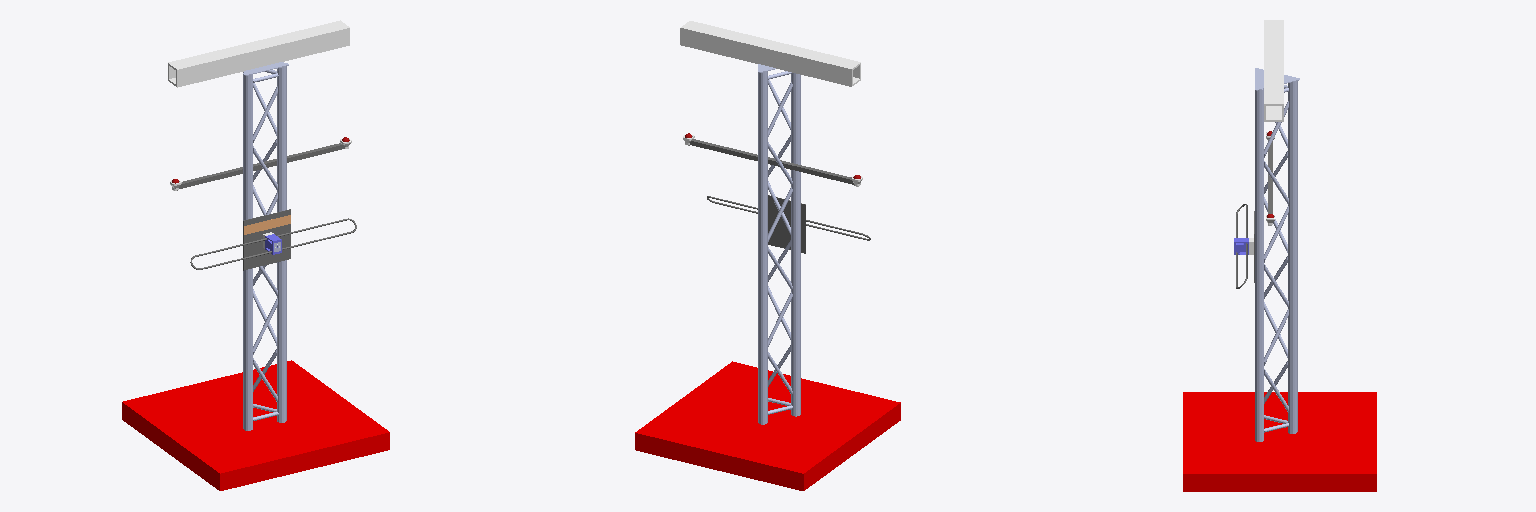
--- What the picture shows (computed from the rendered views, not written in the file) ---
3 views of the same robot in one strip: view 1: azimuth 30°, elevation 25°; view 2: azimuth 150°, elevation 25°; view 3: azimuth 270°, elevation 25° (orthographic).
Model hunter_killer_mast with 19 links and 18 joints (5 revolute, 1 prismatic, 12 fixed), rooted at box_base, posed all joints at 0.
Visible links, largest first — view 1: box_base, mast, pankha, blue_board, navigation_pole, antena; view 2: box_base, mast, pankha, blue_board, navigation_pole; view 3: box_base, mast, pankha.
Link boxes in pixels (box(x1,y1,x2,y2)): box_base: box(122, 360, 389, 490); mast: box(243, 62, 288, 430); pankha: box(168, 20, 349, 87); blue_board: box(243, 209, 290, 270); navigation_pole: box(179, 143, 344, 188); antena: box(190, 218, 356, 269); box_base: box(635, 361, 900, 490); mast: box(758, 64, 800, 424); pankha: box(680, 21, 860, 86); blue_board: box(768, 195, 805, 253); navigation_pole: box(690, 139, 853, 184); box_base: box(1183, 392, 1376, 491); mast: box(1255, 68, 1299, 441); pankha: box(1264, 20, 1283, 121).
Size in the robot's own frame: 1.05 by 1 by 2.2 metres.
16 mesh visuals loaded from 13 distinct referenced files (13 binary STL).

URDF robot description (hunter_killer_mast):
<?xml version="1.0" encoding="utf-8"?>
<!-- This URDF was automatically created by SolidWorks to URDF Exporter! Originally created by Stephen Brawner ([email redacted]) 
     Commit Version: 1.5.1-0-g916b5db  Build Version: 1.5.7152.31018
     For more information, please see http://wiki.ros.org/sw_urdf_exporter -->
<robot name="hunter_killer_mast">

  <link name="box_base">
    <inertial>
      <origin xyz="0.0 0.0 0.0" rpy="0.0 0.0 0.0"/>
      <mass value="20.0"/>
      <inertia ixx="4.0" ixy="0.0" ixz="0.0" iyy="4.0" iyz="0.0" izz="4.0"/>
    </inertial>
    <visual name="">
      <origin xyz="0.0 0.0 0.0" rpy="0.0 0.0 0.0"/>
      <geometry>
        <box size="1 1 0.1"/>
      </geometry>
      <material name="">
        <color rgba="1.0 0.0 0.0 1.0"/>
        <texture filename=""/>
      </material>
    </visual>
    <collision>
      <origin xyz="0.0 0.0 0.0" rpy="0.0 0.0 0.0"/>
      <geometry>
        <box size="1 1 0.1"/>
      </geometry>
    </collision>
  </link>

  <joint name="roll_joint" type="revolute">
    <origin xyz="0.0 0.0 0.05" rpy="0.0 0.0 0.0"/>
    <parent link="box_base"/>
    <child link="base"/>
    <axis
      xyz="1 0 0" />
    <limit
      lower="-0.2"
      upper="0.2"
      effort="1000"
      velocity="0.5" />
    <dynamics damping="10" friction="1"/>
  </joint>

  <link name="base">
    <inertial>
      <origin
        xyz="-0.021807112902672 0.2981157062495953 0.306152835990506"
        rpy="0 0 0" />
      <mass
        value="26.67349504" />
      <inertia
        ixx="2.29537872450219"
        ixy="-9.71572452120503E-19"
        ixz="-2.66210851881018E-17"
        iyy="4.58897921600171"
        iyz="0"
        izz="2.29537872450219" />
    </inertial>
    <collision>
      <origin
        xyz="-0.25 0.3 0"
        rpy="0 0 0" />
      <geometry>
        <mesh
          filename="package://hunter_killer_mast/meshes/base.STL" />
      </geometry>
    </collision>
  </link>

  <link name="mast">
    <inertial>
      <origin
        xyz="0 0 0.6452336017551502"
        rpy="3.1416 -1.0464 -1.0472" />
      <mass
        value="3.55215387982123" />
      <inertia
        ixx="0.182505964653922"
        ixy="5.27421373359982E-06"
        ixz="0.297057435206095"
        iyy="0.696082725150094"
        iyz="7.26935770486992E-06"
        izz="0.524274527718264" />
    </inertial>
    <visual>
      <origin
        xyz="0 0.05 0.714"
        rpy="3.1416 -1.0464 -1.0472" />
      <geometry>
        <mesh
          filename="package://hunter_killer_mast/meshes/mast.STL" />
      </geometry>
      <material
        name="">
        <color
          rgba="0.792156862745098 0.819607843137255 0.933333333333333 1" />
      </material>
    </visual>
    <collision>
      <origin
        xyz="0 0.05 0.714"
        rpy="3.1416 -1.0464 -1.0472" />
      <geometry>
        <mesh
          filename="package://hunter_killer_mast/meshes/mast.STL" />
      </geometry>
    </collision>
  </link>

  <!-- temporary values  rpy="3.1416 -1.0464 -1.0472" 
                        xyz="0.23929 -0.12715 0.7141"-->

  <joint
    name="pitch_joint"
    type="revolute">
    <origin
      xyz="0 0 0"
      rpy="0 0 0" />
    <parent
      link="base" />
    <child
      link="mast" />
    <axis
      xyz="0 1 0" />
    <limit
      lower="-0.2"
      upper="0.2"
      effort="1000"
      velocity="0.5" />
    <dynamics damping="10" friction="1"/>
  </joint>

  <link
    name="blue_board">
    <inertial>
      <origin
        xyz="-5.55111512312578E-17 0 0.00126999999999999"
        rpy="0 0 0" />
      <mass
        value="0.198283474399999" />
      <inertia
        ixx="0.00129001264777298"
        ixy="1.95088712527377E-19"
        ixz="-7.07133320416532E-36"
        iyy="0.00129001264777298"
        iyz="1.36369182639755E-21"
        izz="0.00257981208793538" />
    </inertial>
    <visual>
      <origin
        xyz="0 0 0"
        rpy="0 0 0" />
      <geometry>
        <mesh
          filename="package://hunter_killer_mast/meshes/blue_board.STL" />
      </geometry>
      <material
        name="">
        <color
          rgba="0.501960784313725 0.501960784313725 0.501960784313725 1" />
      </material>
    </visual>
    <collision>
      <origin
        xyz="0 0 0"
        rpy="0 0 0" />
      <geometry>
        <mesh
          filename="package://hunter_killer_mast/meshes/blue_board.STL" />
      </geometry>
    </collision>
  </link>

  <joint
    name="blue_board_joint"
    type="fixed">
    <origin
      xyz="-0.01 -0.13 1.05"
      rpy="1.570796 0 0" />
    <parent
      link="mast" />
    <child
      link="blue_board" />
    <axis
      xyz="0 0 0" />
    <limit
      lower="0"
      upper="0"
      effort="0"
      velocity="0" />
  </joint>

  <link name="name_plate">
    <inertial>
      <origin
        xyz="2.77555756156289E-17 0.000126999999999988 0"
        rpy="0 0 0" />
      <mass
        value="0.00360515407999968" />
      <inertia
        ixx="7.75319784594255E-07"
        ixy="4.48415508583941E-40"
        ixz="-1.44850079896059E-22"
        iyy="2.42281375651312E-05"
        iyz="7.94251067970232E-26"
        izz="2.3452856545557E-05" />
    </inertial>
    <visual>
      <origin
        xyz="0 0 0"
        rpy="0 0 0" />
      <geometry>
        <mesh
          filename="package://hunter_killer_mast/meshes/name_plate.STL" />
      </geometry>
      <material
        name="">
        <color
          rgba="0.988235294117647 0.737254901960784 0.517647058823529 1" />
      </material>
    </visual>
    <collision>
      <origin
        xyz="0 0 0"
        rpy="0 0 0" />
      <geometry>
        <mesh
          filename="package://hunter_killer_mast/meshes/name_plate.STL" />
      </geometry>
    </collision>
  </link>

  <joint
    name="name_plate_joint"
    type="fixed">
    <origin
      xyz="0 0.08382 0.002794"
      rpy="-1.5708 0 0" />
    <parent
      link="blue_board" />
    <child
      link="name_plate" />
    <axis
      xyz="0 0 0" />
  </joint>

  <link name="buax">
    <inertial>
      <origin xyz="0.0 0.0 0.0" rpy="0.0 0.0 0.0"/>
      <mass value="2.0"/>
      <inertia ixx="0.2" ixy="0.0" ixz="0.0" iyy="0.2" iyz="0.0" izz="0.2"/>
    </inertial>
  </link>

  <joint name="joint_name" type="fixed">
    <origin xyz="0 0.03 0.03" rpy="0.0 -1.570796 0.0"/>
    <parent link="rod_supporter"/>
    <child link="buax"/>
    <axis xyz="0.0 0.0 0.0"/>
    <limit lower="0.0" upper="0.0" effort="0.0" velocity="0.0"/>
  </joint>

  <gazebo reference="buax">        
   <sensor type="ray" name="proxy">
      <pose>0 0 0 0 -1.570796 0</pose>
      <update_rate>50</update_rate>
      <ray>
         <scan>
            <horizontal>
               <samples>1</samples>
               <resolution>1.0</resolution>
               <min_angle>-0.01</min_angle>
               <max_angle>0.01</max_angle>
            </horizontal>
            <vertical>
               <samples>1</samples>
               <resolution>1</resolution>
               <min_angle>-0.01</min_angle>
               <max_angle>0.01</max_angle>
            </vertical>
         </scan>
         <range>
            <min>0.01</min>
            <max>3.75</max>
            <resolution>0.02</resolution>
         </range>
      </ray>
      <plugin filename="libgazebo_ros_range.so" name="gazebo_ros_range">
         <gaussianNoise>0.005</gaussianNoise>
         <alwaysOn>true</alwaysOn>
         <updateRate>5</updateRate>
         <topicName>/hunter_killer_mast/proxy_sensor</topicName>
         <frameName>buax</frameName>
         <visualize>true</visualize>
         <radiation>infrared</radiation>
         <fov>0.02</fov>
      </plugin>
    </sensor>            
  </gazebo>

  <link
    name="rod_supporter">
    <inertial>
      <origin
        xyz="-1.11022302462516E-16 0 0.01524"
        rpy="0 0 0" />
      <mass
        value="0.0919734304942546" />
      <inertia
        ixx="5.20957439344639E-05"
        ixy="-2.3398997418822E-21"
        ixz="-8.63635355504983E-22"
        iyy="2.56650484088638E-05"
        iyz="2.00216253752143E-21"
        izz="6.78711959403822E-05" />
    </inertial>
    <visual>
      <origin
        xyz="0 0 0"
        rpy="0 0 0" />
      <geometry>
        <mesh
          filename="package://hunter_killer_mast/meshes/rod_supporter.STL" />
      </geometry>
      <material
        name="">
        <color
          rgba="1 1 1 1" />
      </material>
    </visual>
    <collision>
      <origin
        xyz="0 0 0"
        rpy="0 0 0" />
      <geometry>
        <mesh
          filename="package://hunter_killer_mast/meshes/rod_supporter.STL" />
      </geometry>
    </collision>
  </link>

  <joint
    name="rod_supporter_joint"
    type="fixed">
    <origin
      xyz="0 0 0"
      rpy="0 0 0" />
    <parent
      link="blue_board" />
    <child
      link="rod_supporter" />
    <axis
      xyz="0 0 0" />
    <limit
      lower="0"
      upper="0"
      effort="0"
      velocity="0" />
  </joint>

  <link
    name="guide_rods">
    <inertial>
      <origin
        xyz="-5.55111512312578E-17 2.22044604925031E-16 0.0543107874034415"
        rpy="0 0 0" />
      <mass
        value="0.0201669646243119" />
      <inertia
        ixx="1.80976233284884E-05"
        ixy="-2.33061764938766E-40"
        ixz="9.22606618892689E-24"
        iyy="1.80976233284884E-05"
        iyz="-4.16978745735654E-39"
        izz="1.55795054568415E-07" />
    </inertial>
    <visual>
      <origin
        xyz="0 0 0"
        rpy="0 0 0" />
      <geometry>
        <mesh filename="package://hunter_killer_mast/meshes/guide_rods.STL" />
      </geometry>
      <material
        name="">
        <color rgba="0.792156862745098 0.819607843137255 0.933333333333333 1" />
      </material>
    </visual>
    <collision>
      <origin
        xyz="0.007 -0.007 0.105"
        rpy="0 3.141592 0" />
      <geometry>
        <mesh filename="package://hunter_killer_mast/meshes/rod_2.STL" scale="0.001 0.00102 0.00102"/>
      </geometry>
    </collision>
  </link>

  <joint
    name="guide_rods_joint"
    type="fixed">
    <origin
      xyz="0 0 0"
      rpy="0 0 0" />
    <parent
      link="rod_supporter" />
    <child
      link="guide_rods" />
    <axis
      xyz="0 0 0" />
  </joint>

  <link
    name="communication_module">
    <inertial>
      <origin
        xyz="0.0134660243967413 -0.0126839365107112 0.000639459594719671"
        rpy="0 0 0" />
      <mass
        value="0.210240234105136" />
      <inertia
        ixx="0.00014510351628552"
        ixy="4.05850233971895E-07"
        ixz="7.64351412431873E-06"
        iyy="0.00021092887628388"
        iyz="-2.53045246409258E-06"
        izz="0.000163406381690408" />
    </inertial>
    <visual>
      <origin
        xyz="0 0 0"
        rpy="0 0 0" />
      <geometry>
        <mesh
          filename="package://hunter_killer_mast/meshes/communication_module.STL" />
      </geometry>
      <material
        name="">
        <color
          rgba="0.501960784313725 0.501960784313725 1 1" />
      </material>
    </visual>
    <collision>
      <origin
        xyz="-0.025 -0.497 -0.014 "
        rpy="1.570796 0.05 1.570796" />
      <geometry>
        <mesh
          filename="package://hunter_killer_mast/meshes/module_4.STL" scale="0.001 0.001 0.001" />
      </geometry>
    </collision>
  </link>

  <joint
    name="communication_module_joint"
    type="prismatic">
    <origin
      xyz="0.0127 0 0.05254"
      rpy="3.1416 -1.5708 1.6238" />
    <parent
      link="rod_supporter" />
    <child
      link="communication_module" />
    <axis
      xyz="1 0 0" />
    <limit
      lower="0"
      upper="1"
      effort="10"
      velocity="1" />
  </joint>

  <link
    name="antena">
    <inertial>
      <origin
        xyz="-0.00126999999999988 0.44450000000001 0.00126999999999988"
        rpy="0 0 0" />
      <mass
        value="0.143371875506258" />
      <inertia
        ixx="0.0120842858829543"
        ixy="-5.74063345111717E-19"
        ixz="-8.88927714737223E-05"
        iyy="0.000179416558545412"
        iyz="-2.70074469998607E-19"
        izz="0.0120842858829543" />
    </inertial>
    <visual>
      <origin
        xyz="0 0 0"
        rpy="0 0 0" />
      <geometry>
        <mesh
          filename="package://hunter_killer_mast/meshes/antena.STL" />
      </geometry>
      <material
        name="">
        <color
          rgba="0.501960784313725 0.501960784313725 0.501960784313725 1" />
      </material>
    </visual>
  </link>

  <joint
    name="antena_joint"
    type="fixed">
    <origin
      xyz="0.01604 0.43133 -0.020359"
      rpy="3.0885 0 0" />
    <parent
      link="communication_module" />
    <child
      link="antena" />
    <axis
      xyz="0 0 0" />
  </joint>

  <link
    name="exposed_plate">
    <inertial>
      <origin
        xyz="8.88178419700125E-16 0.000127000000000044 -2.77555756156289E-17"
        rpy="0 0 0" />
      <mass
        value="0.000412780903939401" />
      <inertia
        ixx="5.39960360516428E-08"
        ixy="-5.74455212874483E-23"
        ixz="-4.84975786754717E-23"
        iyy="1.54241350777618E-07"
        iyz="-5.98369508948817E-25"
        izz="1.00249753221442E-07" />
    </inertial>
    <visual>
      <origin
        xyz="0 0 0"
        rpy="0 0 0" />
      <geometry>
        <mesh
          filename="package://hunter_killer_mast/meshes/exposed_plate.STL" />
      </geometry>
      <material
        name="">
        <color
          rgba="0.792156862745098 0.819607843137255 0.933333333333333 1" />
      </material>
    </visual>
  </link>

  <joint
    name="exposed_plate_joint"
    type="fixed">
    <origin
      xyz="0.0516 -0.012682 0.00067339"
      rpy="0 1.5177 -1.5708" />
    <parent
      link="communication_module" />
    <child
      link="exposed_plate" />
    <axis
      xyz="0 0 0" />
  </joint>

  <link
    name="pankha">
    <inertial>
      <origin
        xyz="0 0 -5.55111512312578E-17"
        rpy="0 0 0" />
      <mass
        value="3.73075199999996" />
      <inertia
        ixx="0.0101973887999999"
        ixy="0"
        ixz="8.84708972748172E-18"
        iyy="0.326022955775997"
        iyz="5.60136381722005E-20"
        izz="0.326022955775997" />
    </inertial>
    <visual>
      <origin
        xyz="-0.508 0 0"
        rpy="0 0 0" />
      <geometry>
        <mesh
          filename="package://hunter_killer_mast/meshes/pankha.STL" />
      </geometry>
      <material
        name="">
        <color
          rgba="1 1 1 1" />
      </material>
    </visual>
    <collision>
      <origin
        xyz="-0.508 0 0"
        rpy="0 0 0" />
      <geometry>
        <mesh
          filename="package://hunter_killer_mast/meshes/pankha.STL" />
      </geometry>
    </collision>
  </link>

  <joint
    name="pankha_joint"
    type="revolute">
    <origin
      xyz="0 -0.03 2.05"
      rpy="0 0 0" />
    <parent
      link="mast" />
    <child
      link="pankha" />
    <axis
      xyz="0 0 1" />
    <limit
      lower="-99999999999"
      upper="99999999999"
      effort="1"
      velocity="1" />
  </joint>

  <link name="navigation_pole">
    <inertial>
      <origin
        xyz="0 0 0"
        rpy="0 0 0" />
      <mass
        value="0.1901952" />
      <inertia
        ixx="0.016378328708352"
        ixy="-6.97430332990107E-21"
        ixz="-6.07340949473425E-20"
        iyy="0.016378328708352"
        iyz="3.36950873090182E-19"
        izz="3.49680215039997E-05" />
    </inertial>
    <visual>
      <origin
        xyz="0 0 -0.508"
        rpy="0 0 0" />
      <geometry>
        <mesh
          filename="package://hunter_killer_mast/meshes/navigation_pole.STL" />
      </geometry>
      <material
        name="">
        <color
          rgba="0.501960784313725 0.501960784313725 0.501960784313725 1" />
      </material>
    </visual>
    <collision>
      <origin
        xyz="0 0 -0.508"
        rpy="0 0 0" />
      <geometry>
        <mesh
          filename="package://hunter_killer_mast/meshes/navigation_pole.STL" />
      </geometry>
    </collision>
  </link>

  <joint
    name="navigation_pole_joint"
    type="fixed">
    <origin
      xyz="0 -0.05 1.43"
      rpy="0 1.570796 0" />
    <parent
      link="mast" />
    <child
      link="navigation_pole" />
    <axis
      xyz="0 0 0" />
  </joint>

  #LED 

  <joint name="ledport_joint" type="fixed">
    <origin xyz="-0.05 0.004 0.48" rpy="0.0 -1.570796 0.0"/>
    <parent link="navigation_pole"/>
    <child link="ledport"/>
    <axis xyz="0.0 0.0 0.0"/>
  </joint>

  <joint name="ledstarboard_joint" type="fixed">
    <origin xyz="-0.05 0.004 -0.52" rpy="0.0 -1.570796 0.0"/>
    <parent link="navigation_pole"/>
    <child link="ledstarboard"/>
    <axis xyz="0.0 0.0 0.0"/>
  </joint>

  <link name="ledport">
    <inertial>
      <origin
        xyz="0.02 0 -0.05"
        rpy="0 0 0" />
      <mass
        value="0.04914" />
      <inertia
        ixx="1.5694E-03"
        ixy="0"
        ixz="0"
        iyy="1.6689E-03"
        iyz="0"
        izz="1.5695E-03" />
    </inertial>
    <visual>
      <origin
        xyz="0 0 0"
        rpy="0 0 0" />
      <geometry>
        <mesh
          filename="package://hunter_killer_mast/meshes/base_led.STL" />
      </geometry>
      <material
        name="">
        <color
          rgba="1 1 1 1" />
      </material>
    </visual>
    <collision>
      <origin
        xyz="0 0 0"
        rpy="0 0 0" />
      <geometry>
        <mesh
          filename="package://hunter_killer_mast/meshes/base_led.STL" />
      </geometry>
    </collision>
  </link>

  <link
    name="hemi1l">
    <inertial>
      <origin
        xyz="0.003137 0.0075 0.0004973"
        rpy="0 0 0" />
      <mass
        value="0.01709" />
      <inertia
        ixx="1.7731E-04"
        ixy="0"
        ixz="0"
        iyy="2.7344E-04"
        iyz="0"
        izz="1.7731E-04" />
    </inertial>
    <visual>
      <origin
        xyz="0 0 0"
        rpy="0 0 0" />
      <geometry>
        <mesh
          filename="package://hunter_killer_mast/meshes/hemi1.STL" />
      </geometry>
      <material
        name="">
        <color
          rgba="0.69412 0.098039 0.098039 1" />
      </material>
    </visual>
    <collision>
      <origin
        xyz="0 0 0"
        rpy="0 0 0" />
      <geometry>
        <mesh
          filename="package://hunter_killer_mast/meshes/hemi1.STL" />
      </geometry>
    </collision>
  </link>

  <joint
    name="hemi1l_joint"
    type="revolute">
    <origin
      xyz="0.019003 0 -0.027203"
      rpy="1.5708 0 -1.4136" />
    <parent
      link="ledport" />
    <child
      link="hemi1l" />
    <axis
      xyz="0.1 0 0" />
    <limit
      lower="0"
      upper="3.1416"
      effort="10"
      velocity="10" />
  </joint>

  <link
    name="hemi2l">
    <inertial>
      <origin
        xyz="0 0.0075 0"
        rpy="0 0 0" />
      <mass
        value="0.01709" />
      <inertia
        ixx="1.7731E-04"
        ixy="0"
        ixz="0"
        iyy="2.7344E-04"
        iyz="0"
        izz="1.7731E-04" />
    </inertial>
    <visual>
      <origin
        xyz="0 0 0"
        rpy="0 0 0" />
      <geometry>
        <mesh
          filename="package://hunter_killer_mast/meshes/hemi2.STL" />
      </geometry>
      <material
        name="">
        <color
          rgba="0.28627 0.66275 0.32941 1" />
      </material>
    </visual>
    <collision>
      <origin
        xyz="0 0 0"
        rpy="0 0 0" />
      <geometry>
        <mesh
          filename="package://hunter_killer_mast/meshes/hemi2.STL" />
      </geometry>
    </collision>
  </link>

  <joint
    name="hemi2l_joint"
    type="fixed">
    <origin
      xyz="0.003137 0 0.0004973"
      rpy="3.1416 1.2392 0" />
    <parent
      link="hemi1l" />
    <child
      link="hemi2l" />
    <axis
      xyz="0 0 0" />
  </joint>

  <link name="ledstarboard">
    <inertial>
      <origin
        xyz="0.02 0 -0.05"
        rpy="0 0 0" />
      <mass
        value="0.04914" />
      <inertia
        ixx="1.5694E-03"
        ixy="0"
        ixz="0"
        iyy="1.6689E-03"
        iyz="0"
        izz="1.5695E-03" />
    </inertial>
    <visual>
      <origin
        xyz="0 0 0"
        rpy="0 0 0" />
      <geometry>
        <mesh
          filename="package://hunter_killer_mast/meshes/base_led.STL" />
      </geometry>
      <material
        name="">
        <color
          rgba="1 1 1 1" />
      </material>
    </visual>
    <collision>
      <origin
        xyz="0 0 0"
        rpy="0 0 0" />
      <geometry>
        <mesh
          filename="package://hunter_killer_mast/meshes/base_led.STL" />
      </geometry>
    </collision>
  </link>

  <link
    name="hemi1r">
    <inertial>
      <origin
        xyz="0.003137 0.0075 0.0004973"
        rpy="0 0 0" />
      <mass
        value="0.01709" />
      <inertia
        ixx="1.7731E-04"
        ixy="0"
        ixz="0"
        iyy="2.7344E-04"
        iyz="0"
        izz="1.7731E-04" />
    </inertial>
    <visual>
      <origin
        xyz="0 0 0"
        rpy="0 0 0" />
      <geometry>
        <mesh
          filename="package://hunter_killer_mast/meshes/hemi1.STL" />
      </geometry>
      <material
        name="">
        <color
          rgba="0.69412 0.098039 0.098039 1" />
      </material>
    </visual>
    <collision>
      <origin
        xyz="0 0 0"
        rpy="0 0 0" />
      <geometry>
        <mesh
          filename="package://hunter_killer_mast/meshes/hemi1.STL" />
      </geometry>
    </collision>
  </link>

  <joint
    name="hemi1r_joint"
    type="revolute">
    <origin
      xyz="0.019003 0 -0.027203"
      rpy="1.5708 0 -1.4136" />
    <parent
      link="ledstarboard" />
    <child
      link="hemi1r" />
    <axis
      xyz="0.1 0 0" />
    <limit
      lower="0"
      upper="3.1416"
      effort="10"
      velocity="10" />
  </joint>

  <link
    name="hemi2r">
    <inertial>
      <origin
        xyz="0 0.0075 0"
        rpy="0 0 0" />
      <mass
        value="0.01709" />
      <inertia
        ixx="1.7731E-04"
        ixy="0"
        ixz="0"
        iyy="2.7344E-04"
        iyz="0"
        izz="1.7731E-04" />
    </inertial>
    <visual>
      <origin
        xyz="0 0 0"
        rpy="0 0 0" />
      <geometry>
        <mesh
          filename="package://hunter_killer_mast/meshes/hemi2.STL" />
      </geometry>
      <material
        name="">
        <color rgba="0.28627 0.66275 0.32941 1" />
      </material>
    </visual>
    <collision>
      <origin xyz="0 0 0"
              rpy="0 0 0" />
      <geometry>
        <mesh filename="package://hunter_killer_mast/meshes/hemi2.STL" />
      </geometry>
    </collision>
  </link>

  <joint
    name="hemi2r_joint"
    type="fixed">
    <origin
      xyz="0.003137 0 0.0004973"
      rpy="3.1416 1.2392 0" />
    <parent
      link="hemi1r" />
    <child
      link="hemi2r" />
    <axis
      xyz="0 0 0" />
  </joint>

  #ROS Control and Transmissions

  <transmission name="roll_trans" type="SimpleTransmission">
    <type>transmission_interface/SimpleTransmission</type>
    <actuator name="box_base_actuator">
      <mechanicalReduction>1</mechanicalReduction>
    </actuator>
    <joint name="roll_joint">
      <hardwareInterface>EffortJointInterface</hardwareInterface>
    </joint>
  </transmission>

  <transmission name="pitch_trans" type="SimpleTransmission">
    <type>transmission_interface/SimpleTransmission</type>
    <actuator name="base_mast_actuator">
      <mechanicalReduction>1</mechanicalReduction>
    </actuator>
    <joint name="pitch_joint">
      <hardwareInterface>EffortJointInterface</hardwareInterface>
    </joint>
  </transmission>

  <transmission name="pankha_transmission" type="SimpleTransmission">
    <type>transmission_interface/SimpleTransmission</type>
    <actuator name="pankha_motor">
      <mechanicalReduction>1</mechanicalReduction>
    </actuator>
    <joint name="pankha_joint">
      <hardwareInterface>hardware_interface/VelocityJointInterface</hardwareInterface>
    </joint>
  </transmission>

  <transmission name="left_led" type="SimpleTransmission">
    <type>transmission_interface/SimpleTransmission</type>
    <actuator name="left_led">
      <mechanicalReduction>1</mechanicalReduction>
    </actuator>
    <joint name="hemi1l_joint">
      <hardwareInterface>hardware_interface/VelocityJointInterface</hardwareInterface>
    </joint>
  </transmission>

  <transmission name="right_led" type="SimpleTransmission">
    <type>transmission_interface/SimpleTransmission</type>
    <actuator name="right_led">
      <mechanicalReduction>1</mechanicalReduction>
    </actuator>
    <joint name="hemi1r_joint">
      <hardwareInterface>hardware_interface/VelocityJointInterface</hardwareInterface>
    </joint>
  </transmission>

  <gazebo>
    <plugin name="gazebo_ros_control" filename="libgazebo_ros_control.so">
      <robotNamespace>/hunter_killer_mast</robotNamespace>
    </plugin>
  </gazebo>

  # Colors for reference

  <gazebo reference="hemi1l">
    <material>Gazebo/Green</material>
  </gazebo>

  <gazebo reference="hemi1r">
    <material>Gazebo/Red</material>
  </gazebo>


</robot>
